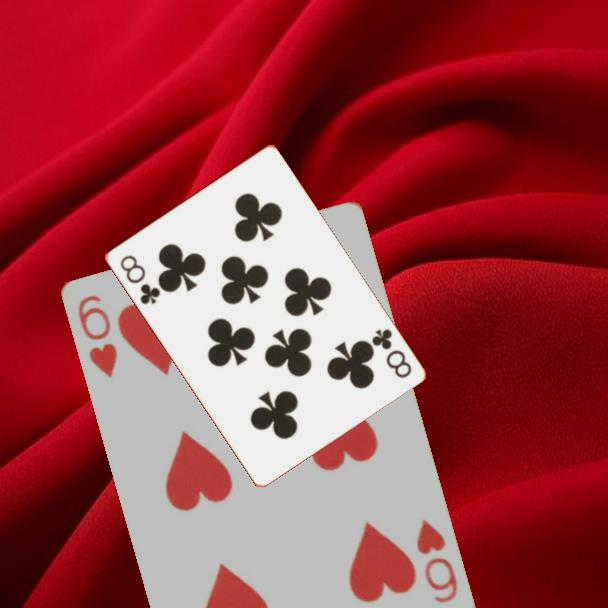c08: (116, 251, 163, 308), (368, 325, 414, 381)
h06: (413, 516, 461, 607), (75, 291, 121, 381)
